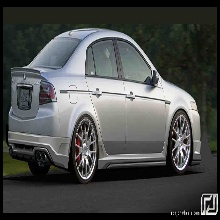no damage: (7, 27, 202, 183)
